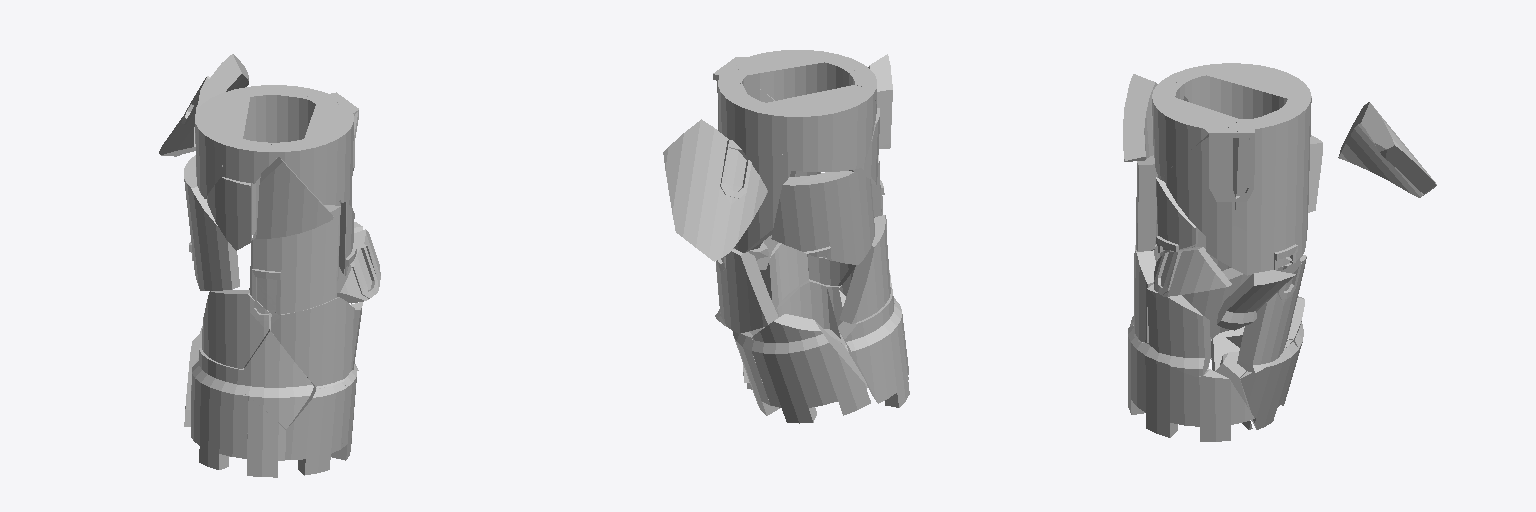
The model's file is destruction_tower_000032.obj.
3 renders of one model, left to right at view 1: azimuth 30°, elevation 25°; view 2: azimuth 150°, elevation 25°; view 3: azimuth 270°, elevation 25°, orthographic.
Parts seen in each view (by area): view 1: tower.001_cell.024_Mesh.024, tower.001_cell.021_Mesh.021, tower.001_cell.028_Mesh.028, tower.001_cell.006_Mesh.006, tower.001_cell.009_Mesh.009, tower.001_cell.011_Mesh.011, tower.001_cell.013_Mesh.013, tower.001_cell.002_Mesh.002, tower.001_cell.003_Mesh.003, tower.001_cell.017_Mesh.017, tower.001_cell.015_Mesh.015, tower.001_cell.005_Mesh.005 (+8 smaller); view 2: tower.001_cell.025_Mesh.025, tower.001_cell.007_Mesh.007, tower.001_cell.003_Mesh.003, tower.001_cell.015_Mesh.015, tower.001_cell.017_Mesh.017, tower.001_cell.028_Mesh.028, tower.001_cell.005_Mesh.005, tower.001_cell.012_Mesh.012, tower.001_cell.009_Mesh.009, tower.001_cell_Mesh, tower.001_cell.023_Mesh.023, tower.001_cell.002_Mesh.002 (+6 smaller); view 3: tower.001_cell.017_Mesh.017, tower.001_cell.020_Mesh.020, tower.001_cell.015_Mesh.015, tower.001_cell.025_Mesh.025, tower.001_cell_Mesh, tower.001_cell.028_Mesh.028, tower.001_cell.030_Mesh.030, tower.001_cell.012_Mesh.012, tower.001_cell.023_Mesh.023, tower.001_cell.010_Mesh.010, tower.001_cell.026_Mesh.026, tower.001_cell.029_Mesh.029 (+12 smaller).
Part boxes in pixels (x1,y1,x2,y2): tower.001_cell.024_Mesh.024: (250, 205, 340, 315); tower.001_cell.021_Mesh.021: (271, 297, 354, 388); tower.001_cell.028_Mesh.028: (271, 104, 358, 205); tower.001_cell.006_Mesh.006: (198, 393, 285, 477); tower.001_cell.009_Mesh.009: (202, 290, 268, 368); tower.001_cell.011_Mesh.011: (285, 382, 346, 475); tower.001_cell.013_Mesh.013: (243, 329, 313, 429); tower.001_cell.002_Mesh.002: (256, 157, 333, 238); tower.001_cell.003_Mesh.003: (184, 155, 239, 290); tower.001_cell.017_Mesh.017: (232, 85, 323, 235); tower.001_cell.015_Mesh.015: (195, 90, 249, 198); tower.001_cell.005_Mesh.005: (191, 348, 243, 443); tower.001_cell.025_Mesh.025: (663, 119, 767, 261); tower.001_cell.007_Mesh.007: (752, 314, 870, 423); tower.001_cell.003_Mesh.003: (771, 171, 874, 264); tower.001_cell.015_Mesh.015: (761, 85, 875, 171); tower.001_cell.017_Mesh.017: (718, 78, 795, 252); tower.001_cell.028_Mesh.028: (735, 50, 864, 100); tower.001_cell.005_Mesh.005: (838, 289, 903, 403); tower.001_cell.012_Mesh.012: (715, 249, 778, 333); tower.001_cell.009_Mesh.009: (839, 215, 890, 323); tower.001_cell_Mesh: (760, 243, 808, 309); tower.001_cell.023_Mesh.023: (776, 279, 847, 350); tower.001_cell.002_Mesh.002: (868, 54, 892, 148); tower.001_cell.017_Mesh.017: (1261, 96, 1311, 262); tower.001_cell.020_Mesh.020: (1164, 127, 1238, 235); tower.001_cell.015_Mesh.015: (1206, 63, 1310, 118); tower.001_cell.025_Mesh.025: (1338, 102, 1436, 197); tower.001_cell_Mesh: (1147, 284, 1210, 376); tower.001_cell.028_Mesh.028: (1152, 81, 1239, 176); tower.001_cell.030_Mesh.030: (1156, 369, 1254, 441); tower.001_cell.012_Mesh.012: (1237, 255, 1306, 372); tower.001_cell.023_Mesh.023: (1139, 342, 1208, 432); tower.001_cell.010_Mesh.010: (1154, 247, 1231, 296); tower.001_cell.026_Mesh.026: (1232, 117, 1260, 236); tower.001_cell.029_Mesh.029: (1240, 339, 1298, 429).
Bounding box in the file's own units: 58.12 × 97.14 × 84.37.